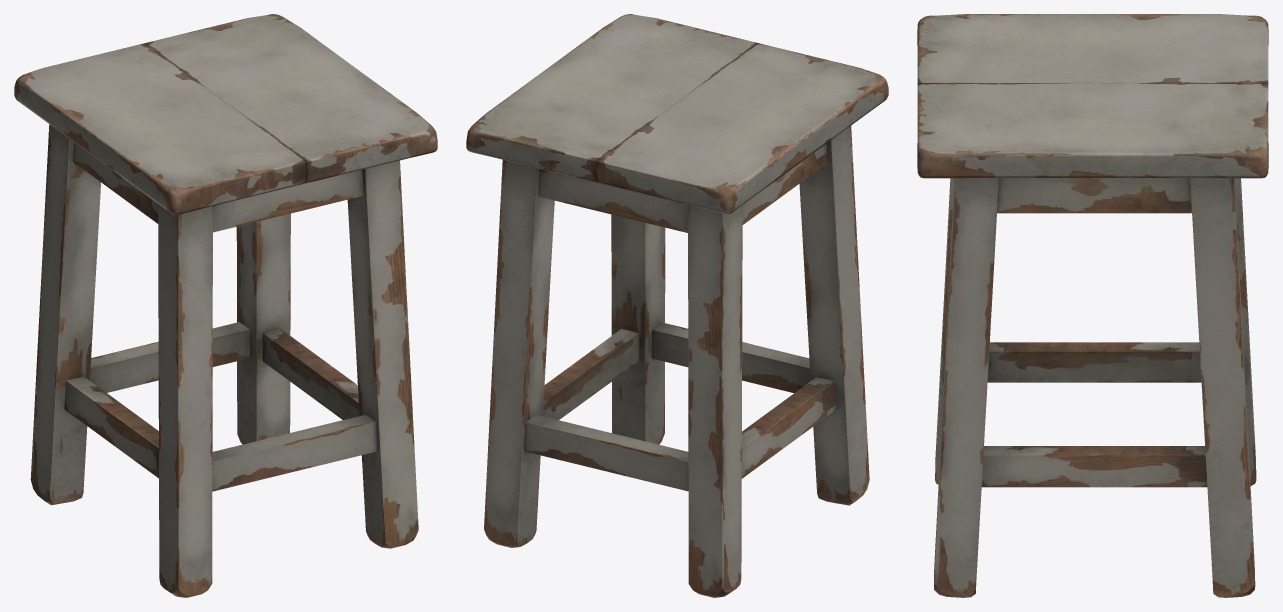
Rendered from painted_wooden_stool.glb.
3 renders of one model, left to right at view 1: azimuth 30°, elevation 25°; view 2: azimuth 150°, elevation 25°; view 3: azimuth 270°, elevation 25°, orthographic. The views are drawn at different scales.
Parts seen in each view (by area): view 1: painted_wooden_stool; view 2: painted_wooden_stool; view 3: painted_wooden_stool.
Part boxes in pixels (x1=…): painted_wooden_stool: x1=14, y1=14, x2=437, y2=597; painted_wooden_stool: x1=466, y1=14, x2=888, y2=597; painted_wooden_stool: x1=917, y1=14, x2=1268, y2=597.
Bounding box in the file's own units: 0.3848 × 0.5789 × 0.4061.
1 material, 1 textured.
